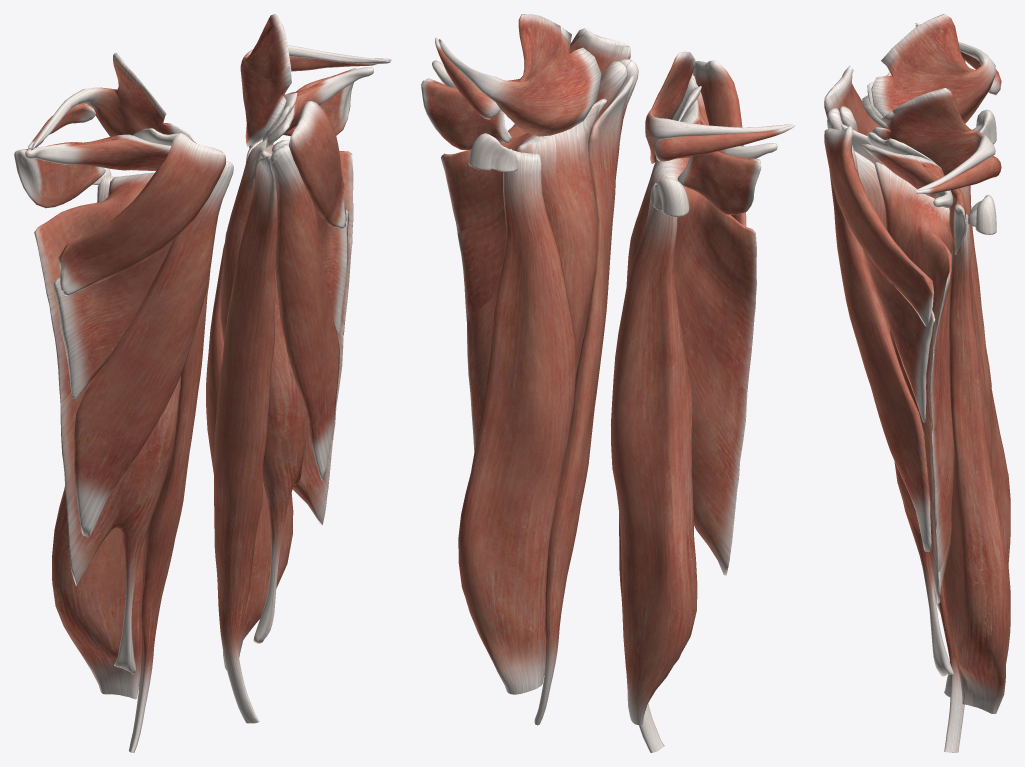
File: hip_attach_s124_female_muscles.glb
3 renders of one model, left to right at view 1: azimuth 30°, elevation 25°; view 2: azimuth 150°, elevation 25°; view 3: azimuth 270°, elevation 25°, orthographic. The views are drawn at different scales.
Parts seen in each view (by area): view 1: Gracilis muscle.l, Adductor longus.r, Adductor magnus.r, Adductor magnus.l, Adductor longus.l, Pectineus muscle.r, Semimembranosus muscle.r, Gracilis muscle.r, Adductor brevis.r, Obturator internus.l, Semimembranosus muscle.l, Pectineus muscle.l (+8 smaller); view 2: Semimembranosus muscle.l, Semimembranosus muscle.r, Adductor magnus.r, Adductor magnus.l, Gracilis muscle.l, Obturator internus.l, Quadratus femoris muscle.r, Obturator internus.r, Quadratus femoris muscle.l, Pectineus muscle.r, Inferior gemellus muscle.r, Pectineus muscle.l (+6 smaller); view 3: Semimembranosus muscle.l, Adductor magnus.l, Adductor longus.l, Obturator internus.r, Pectineus muscle.l, Obturator internus.l, Adductor brevis.l, Semimembranosus muscle.r, Gracilis muscle.l, Obturator externus.l, Pectineus muscle.r, Inferior gemellus muscle.l (+6 smaller).
Boxes of the visible parts, <box> form: Gracilis muscle.l: <box>214,155,277,723</box>; Adductor longus.r: <box>74,161,233,537</box>; Adductor magnus.r: <box>34,172,180,674</box>; Adductor magnus.l: <box>220,140,353,643</box>; Adductor longus.l: <box>270,143,339,480</box>; Pectineus muscle.r: <box>58,132,225,295</box>; Semimembranosus muscle.r: <box>52,176,144,699</box>; Gracilis muscle.r: <box>129,271,210,752</box>; Adductor brevis.r: <box>53,240,173,398</box>; Obturator internus.l: <box>240,14,390,146</box>; Semimembranosus muscle.l: <box>206,139,293,670</box>; Pectineus muscle.l: <box>288,101,346,228</box>; Semimembranosus muscle.l: <box>458,149,575,694</box>; Semimembranosus muscle.r: <box>611,182,697,725</box>; Adductor magnus.r: <box>626,157,756,575</box>; Adductor magnus.l: <box>441,98,606,451</box>; Gracilis muscle.l: <box>534,75,633,725</box>; Obturator internus.l: <box>438,14,601,136</box>; Quadratus femoris muscle.r: <box>677,151,761,215</box>; Obturator internus.r: <box>645,51,792,163</box>; Quadratus femoris muscle.l: <box>421,78,511,150</box>; Pectineus muscle.r: <box>693,60,746,226</box>; Inferior gemellus muscle.r: <box>654,125,795,161</box>; Pectineus muscle.l: <box>508,28,630,138</box>; Semimembranosus muscle.l: <box>942,214,1010,713</box>; Adductor magnus.l: <box>874,161,954,676</box>; Adductor longus.l: <box>829,170,931,551</box>; Obturator internus.r: <box>871,14,995,123</box>; Pectineus muscle.l: <box>824,126,934,326</box>; Obturator internus.l: <box>871,88,995,193</box>; Adductor brevis.l: <box>852,145,935,422</box>; Semimembranosus muscle.r: <box>959,185,1010,565</box>; Gracilis muscle.l: <box>854,151,964,752</box>; Obturator externus.l: <box>862,144,952,208</box>; Pectineus muscle.r: <box>824,65,881,135</box>; Inferior gemellus muscle.l: <box>915,156,1001,194</box>.
Size of the model in its own units: 0.2585 by 0.4807 by 0.1206.
5 materials, 5 textured.
